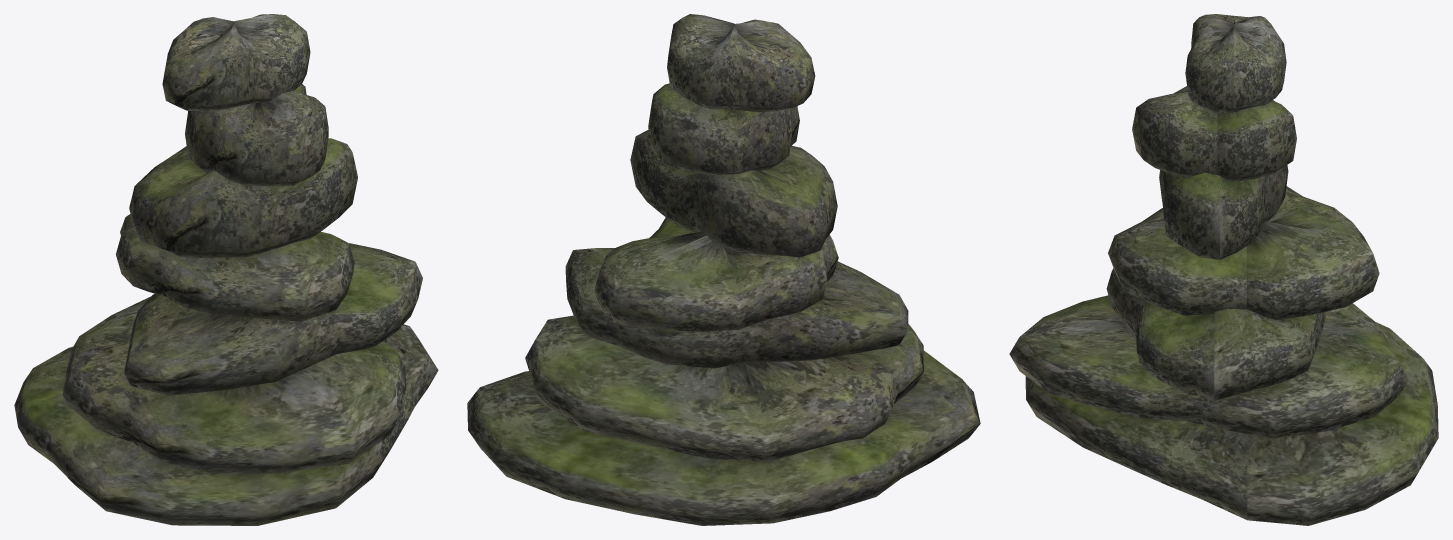
The model's file is cairn.glb.
3 views of the same model, side by side, from view 1: azimuth 30°, elevation 25°; view 2: azimuth 150°, elevation 25°; view 3: azimuth 270°, elevation 25° (orthographic). The views are drawn at different scales.
Parts seen in each view (by area): view 1: cairn; view 2: cairn; view 3: cairn.
Boxes of the visible parts, x1,y1,x2,y2 form: cairn: (14,14,438,525); cairn: (467,14,980,525); cairn: (1009,14,1438,525).
Size of the model in its own units: 0.5957 by 0.5859 by 0.5561.
Materials: 1 (1 with a texture image).
